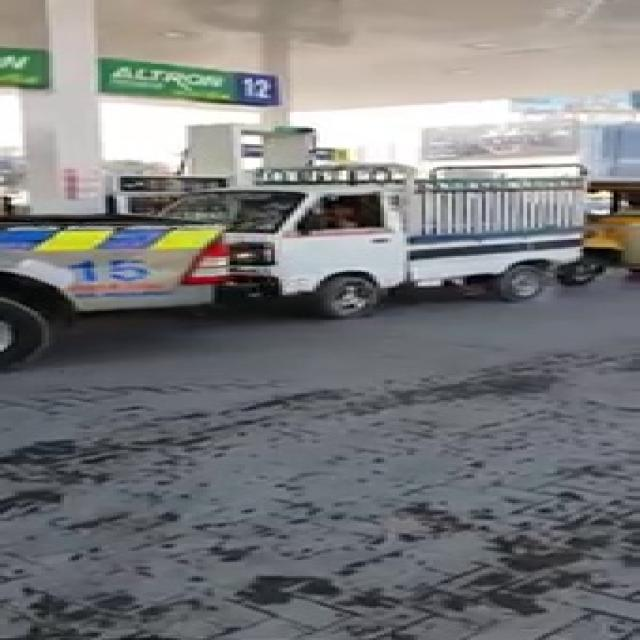police: (0, 212, 274, 366)
